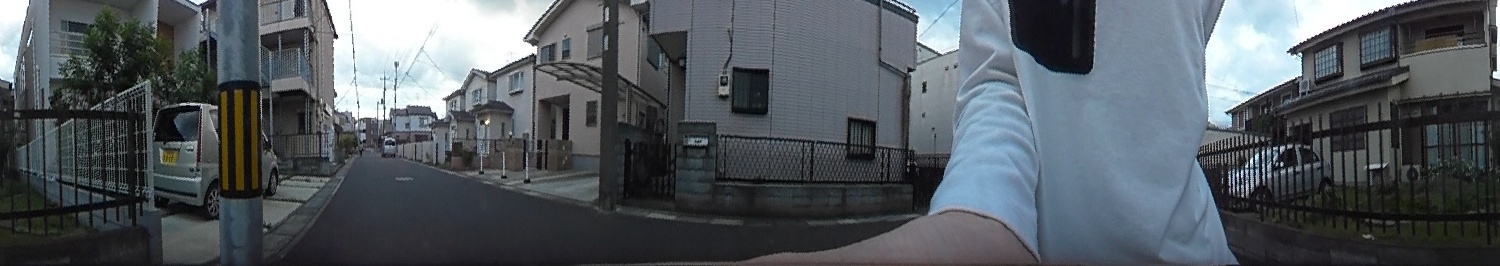difficult_person: (356, 139, 364, 158)
